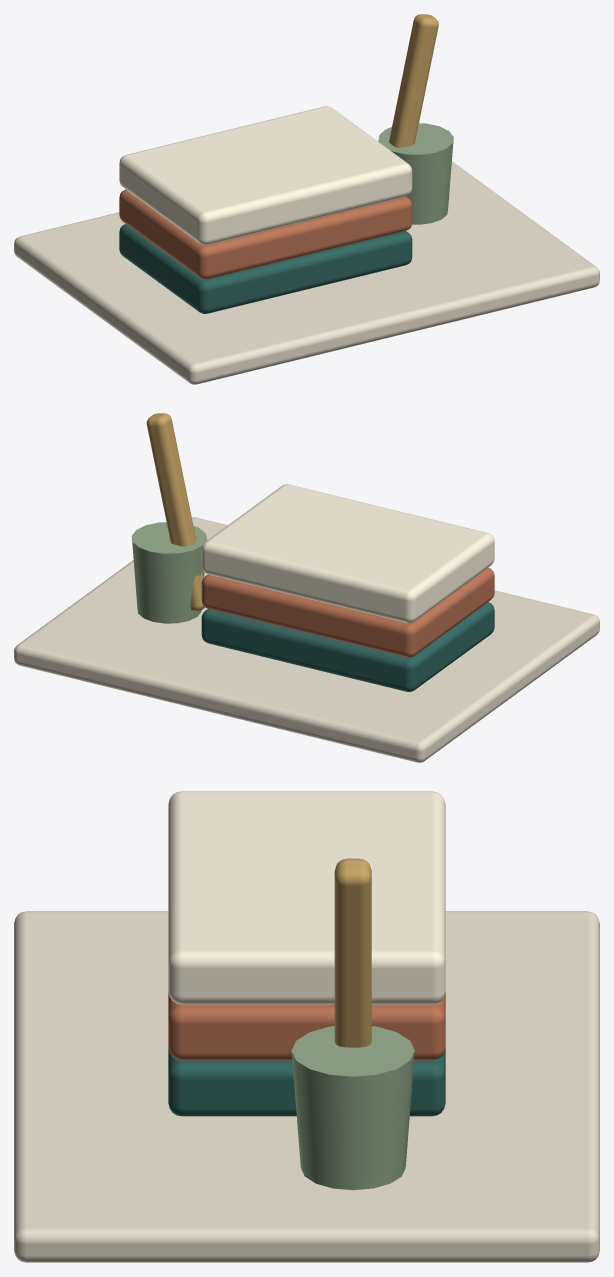
Rendered from work-study.glb.
3 views of the same model, one above another, from view 1: azimuth 30°, elevation 25°; view 2: azimuth 150°, elevation 25°; view 3: azimuth 270°, elevation 25° (orthographic). The views are drawn at different scales.
Parts seen in each view (by area): view 1: textbook (×3), display-plinth, pencil-cup, pencil; view 2: textbook (×3), display-plinth, pencil-cup, pencil; view 3: display-plinth, textbook (×3), pencil-cup, pencil.
Boxes of the visible parts, x1,y1,x2,y2 form: textbook (×3): (119, 106, 412, 313); display-plinth: (14, 161, 599, 384); pencil-cup: (378, 123, 453, 224); pencil: (389, 14, 438, 147); textbook (×3): (201, 484, 494, 691); display-plinth: (14, 517, 599, 762); pencil-cup: (131, 522, 206, 623); pencil: (146, 413, 204, 611); display-plinth: (14, 911, 599, 1262); textbook (×3): (168, 791, 445, 1116); pencil-cup: (291, 1026, 414, 1190); pencil: (334, 858, 371, 1047).
Size of the model in its own units: 2.5 by 1.24 by 1.9.
